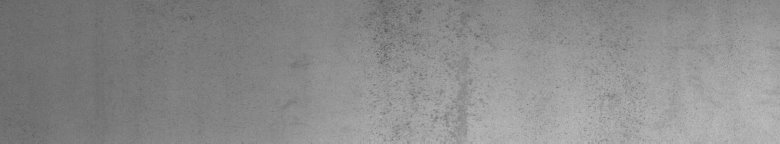ib: (371, 5, 488, 126)
